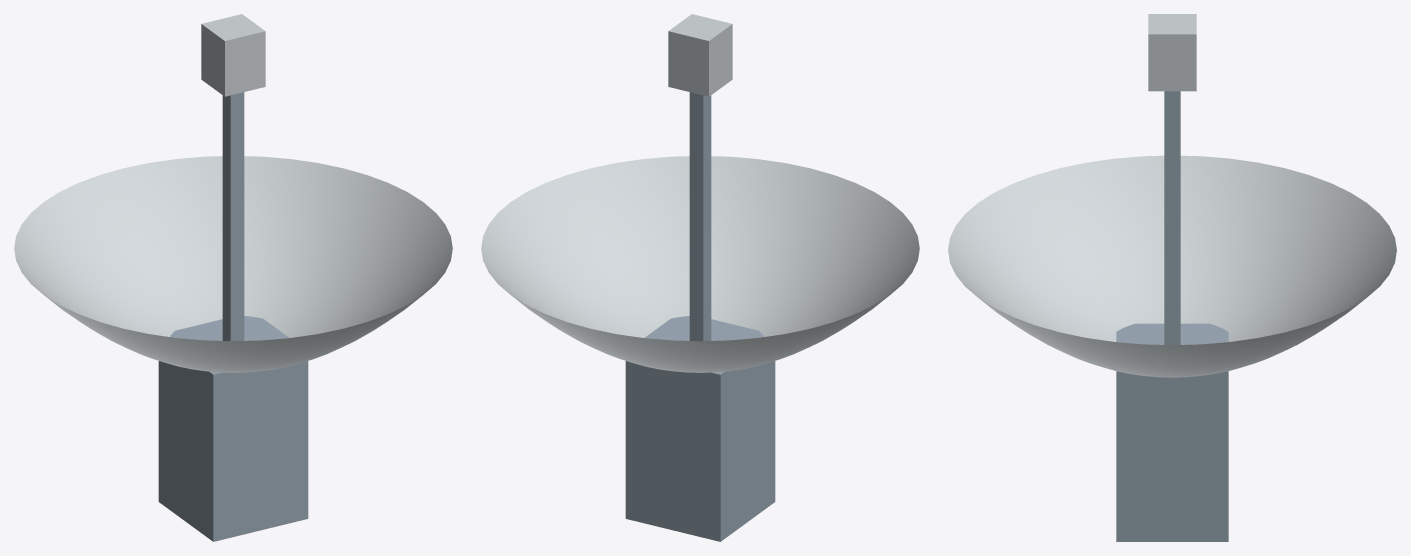
Rendered from Satellite Kit radio 2.glb.
The picture shows the model from 3 angles, left to right: view 1: azimuth 30°, elevation 25°; view 2: azimuth 150°, elevation 25°; view 3: azimuth 270°, elevation 25°; orthographic projection. The views are drawn at different scales.
Parts seen in each view (by area): view 1: ParabolicDish, AntennaMount, FeedMast, FeedHorn; view 2: ParabolicDish, AntennaMount, FeedMast, FeedHorn; view 3: ParabolicDish, AntennaMount, FeedMast, FeedHorn.
Boxes of the visible parts, x1,y1,x2,y2 form: ParabolicDish: (14, 156, 452, 372); AntennaMount: (158, 316, 308, 541); FeedMast: (222, 92, 244, 341); FeedHorn: (201, 14, 265, 96); ParabolicDish: (481, 156, 919, 372); AntennaMount: (625, 316, 775, 541); FeedMast: (689, 92, 711, 341); FeedHorn: (668, 14, 732, 96); ParabolicDish: (948, 155, 1396, 377); AntennaMount: (1116, 323, 1228, 541); FeedMast: (1164, 91, 1180, 345); FeedHorn: (1148, 14, 1196, 91).
Bounding box in the file's own units: 0.0182 × 0.0221 × 0.0182.
